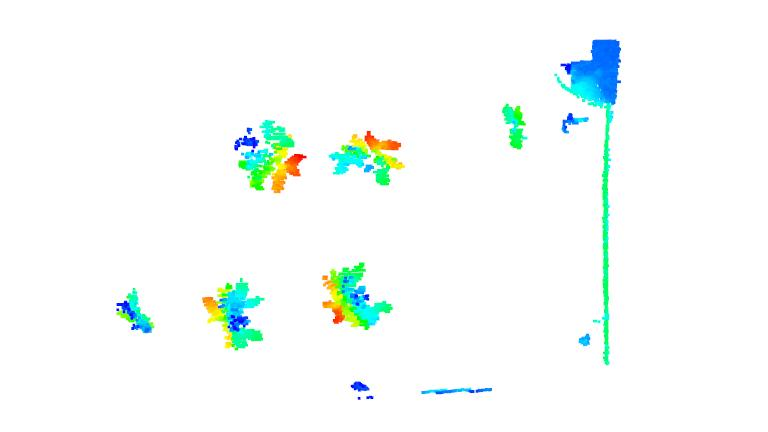chickpea: (229, 115, 310, 196), (199, 276, 269, 356), (320, 260, 393, 335), (332, 123, 409, 189), (111, 286, 159, 334), (496, 101, 533, 154)
